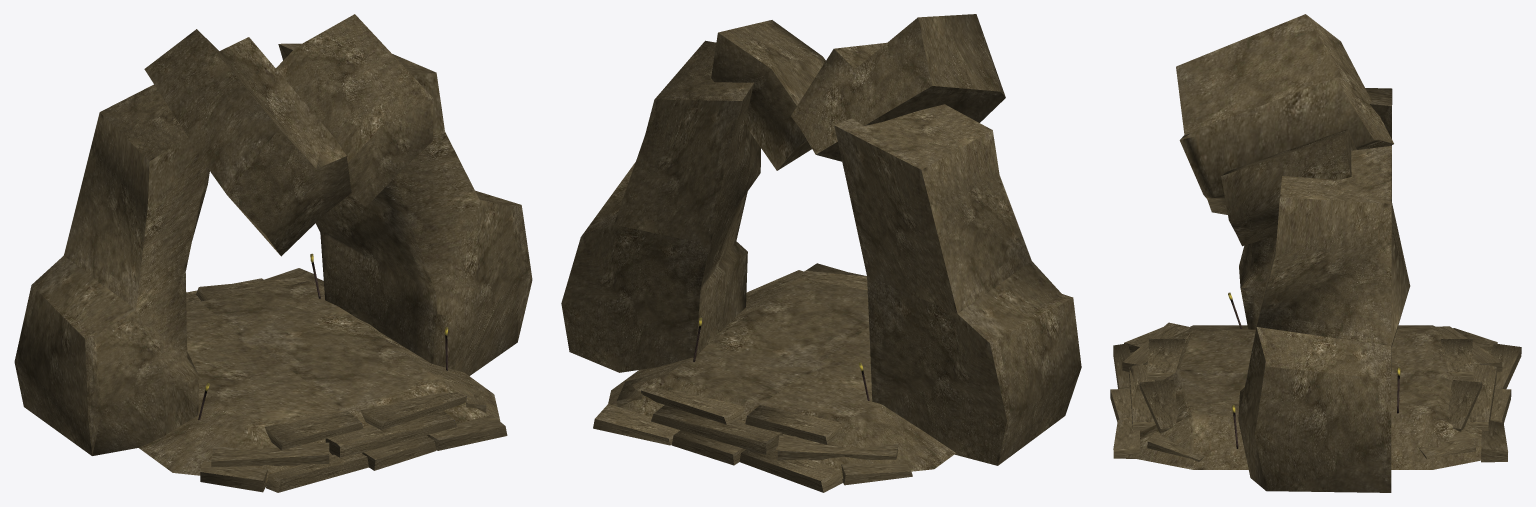
File: tunnelcap_volcano.fbx
3 renders of one model, left to right at view 1: azimuth 30°, elevation 25°; view 2: azimuth 150°, elevation 25°; view 3: azimuth 270°, elevation 25°, orthographic. The views are drawn at different scales.
Parts seen in each view (by area): view 1: columnL, columnR, floor2, top_big1, topSmall, pCube4.001, pCube7.001, pCube9.001, pCube8.001, pCube3.001, pCube1.001, pCube6.001 (+2 smaller); view 2: columnL, columnR, floor2, top_big1, topSmall, pCube4, pCube3, pCube9, pCube7, pCube1, pCube8, pCube2 (+2 smaller); view 3: columnR, top_big1, floor2, topSmall, columnL, pCube8.001, pCube9.001, pCube4, pCube8, pCube4.001, pCube9, pCube1 (+9 smaller).
Part boxes in pixels (x1,y1,x2,y2): columnL: (14, 84, 209, 455); columnR: (278, 43, 532, 375); floor2: (139, 280, 500, 482); top_big1: (144, 29, 351, 256); topSmall: (276, 14, 433, 206); pCube4.001: (325, 410, 456, 457); pCube7.001: (211, 442, 329, 467); pCube9.001: (265, 411, 363, 450); pCube8.001: (360, 392, 466, 430); pCube3.001: (266, 453, 368, 492); pCube1.001: (427, 415, 507, 450); pCube6.001: (200, 461, 267, 492); columnL: (834, 104, 1081, 465); columnR: (561, 40, 760, 372); floor2: (608, 276, 955, 478); top_big1: (791, 14, 1005, 161); topSmall: (711, 20, 825, 170); pCube4: (651, 405, 782, 454); pCube3: (739, 449, 842, 492); pCube9: (745, 405, 841, 444); pCube7: (777, 435, 898, 460); pCube1: (593, 404, 679, 445); pCube8: (641, 387, 745, 424); pCube2: (671, 430, 745, 465); columnR: (1238, 146, 1410, 492); top_big1: (1176, 14, 1393, 214); floor2: (1124, 325, 1491, 469); topSmall: (1221, 129, 1356, 246); columnL: (1239, 88, 1392, 329); pCube8.001: (1139, 380, 1177, 433); pCube9.001: (1147, 339, 1185, 380); pCube4: (1466, 364, 1496, 430); pCube8: (1448, 380, 1481, 431); pCube4.001: (1129, 364, 1155, 430); pCube9: (1440, 339, 1473, 380); pCube1: (1481, 420, 1507, 462).
Bounding box in the file's own units: 6079 × 5060 × 5279.
1 material, 1 textured.
